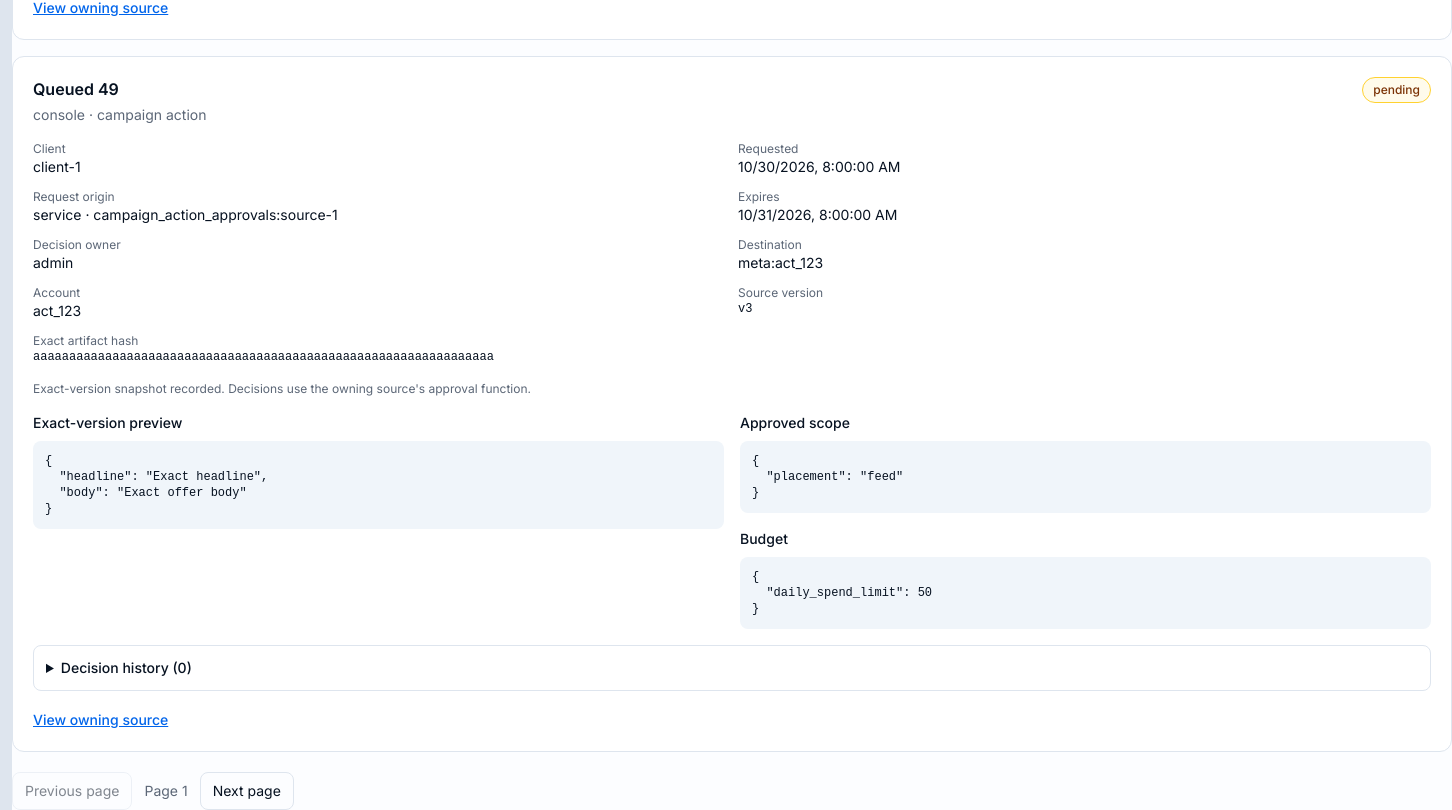
Scenario: unified approval inbox › pages all matching requests in bounded batches and bounds decision history IDs
(page scrolled)
Click the button "Next page".
click(247, 791)  # box [200, 772, 294, 809]
(page scrolled)
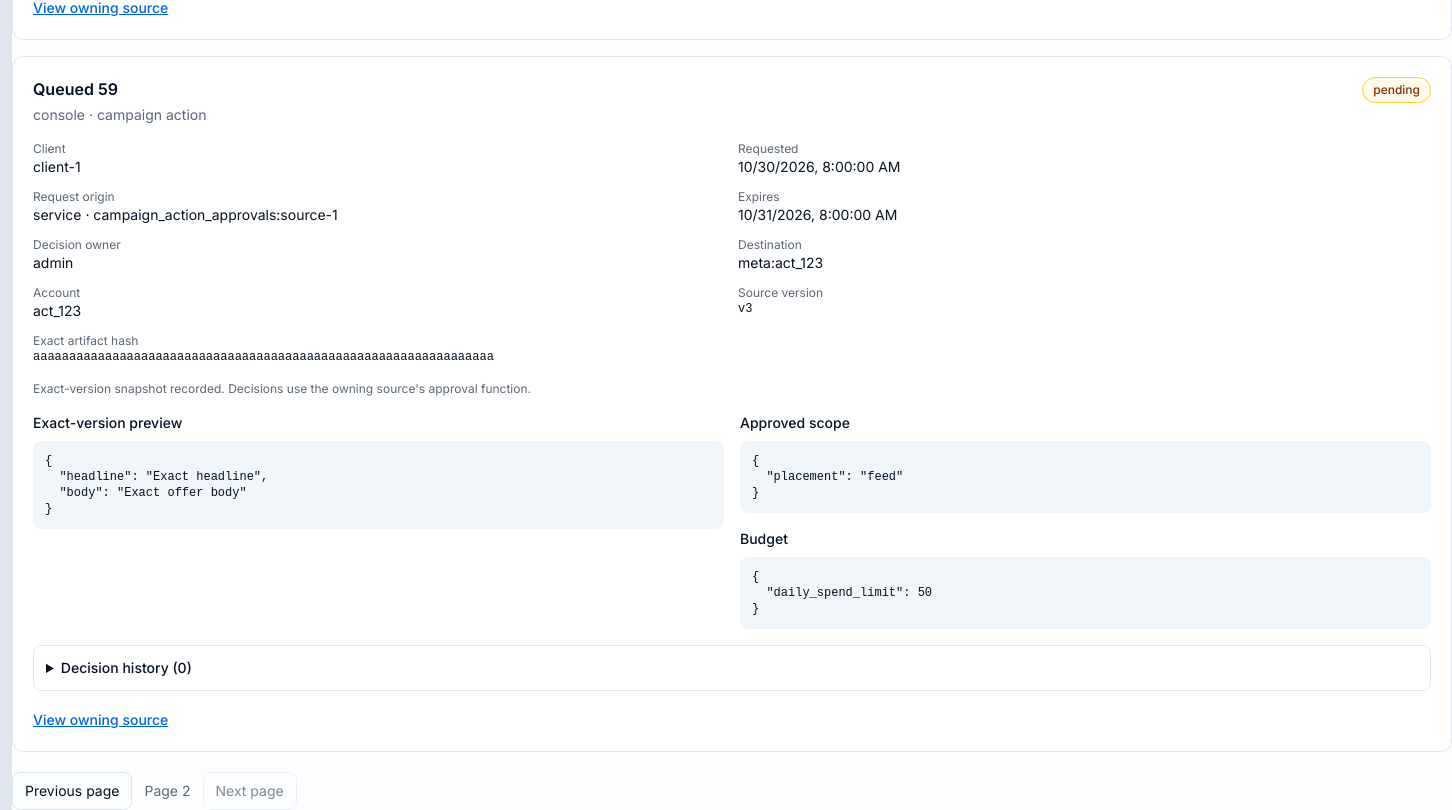
Click the button "Previous page".
click(72, 791)  # box [12, 772, 132, 809]
(page scrolled)
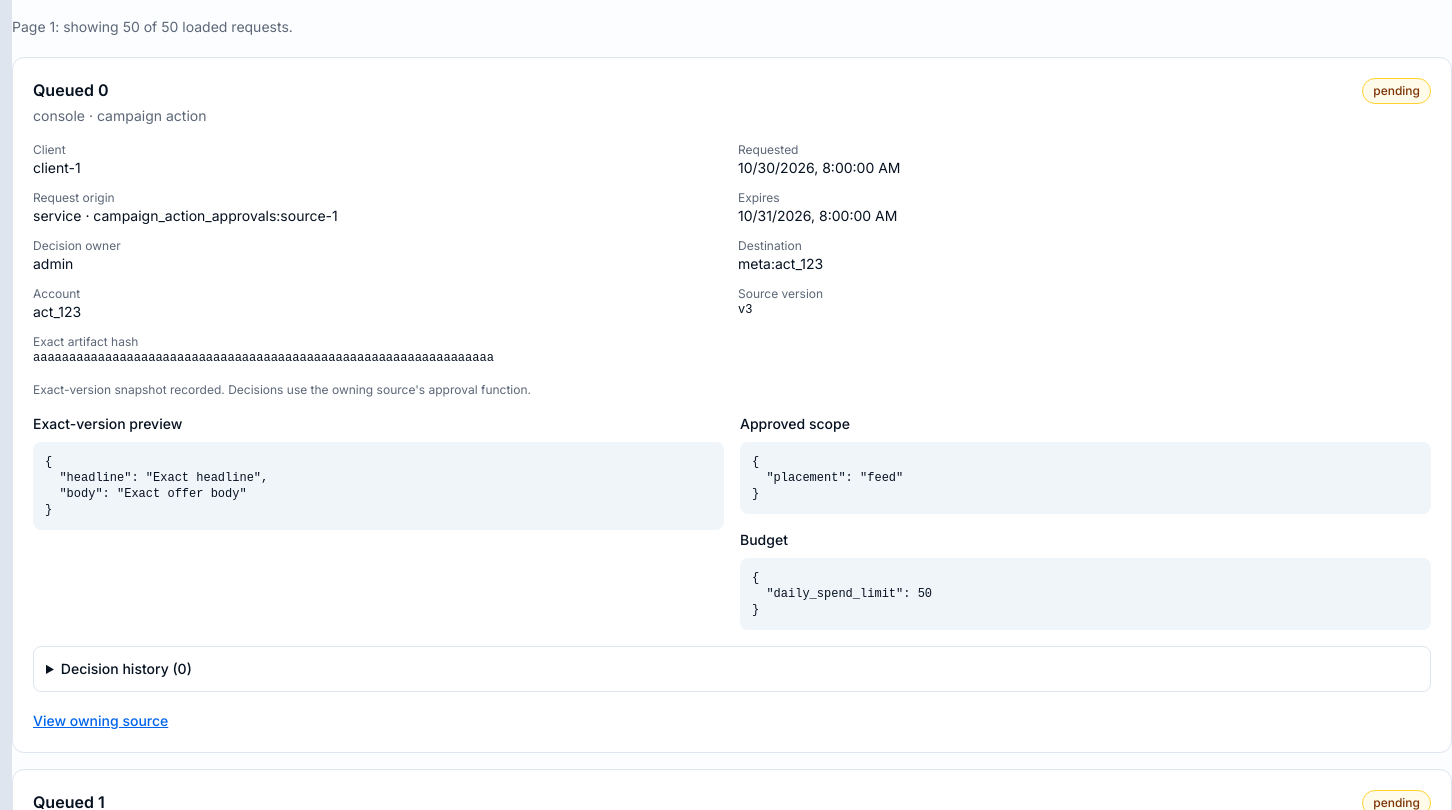
Expected: the element "Queued 0" is shown
